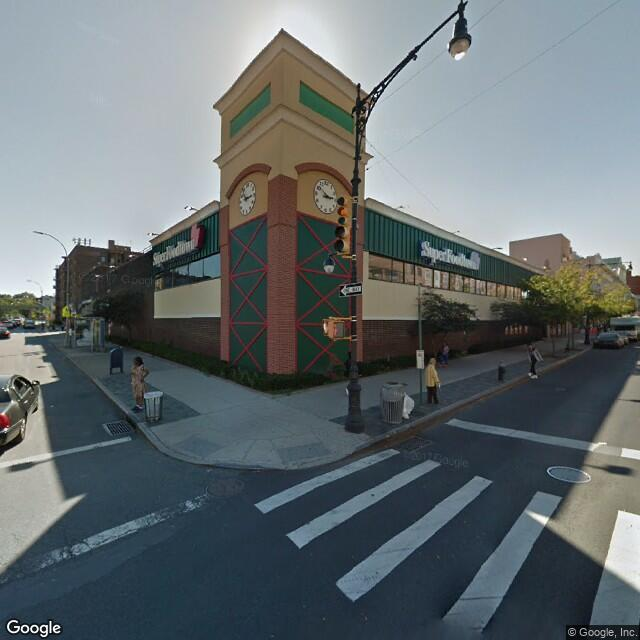litter: (407, 391, 425, 423)
